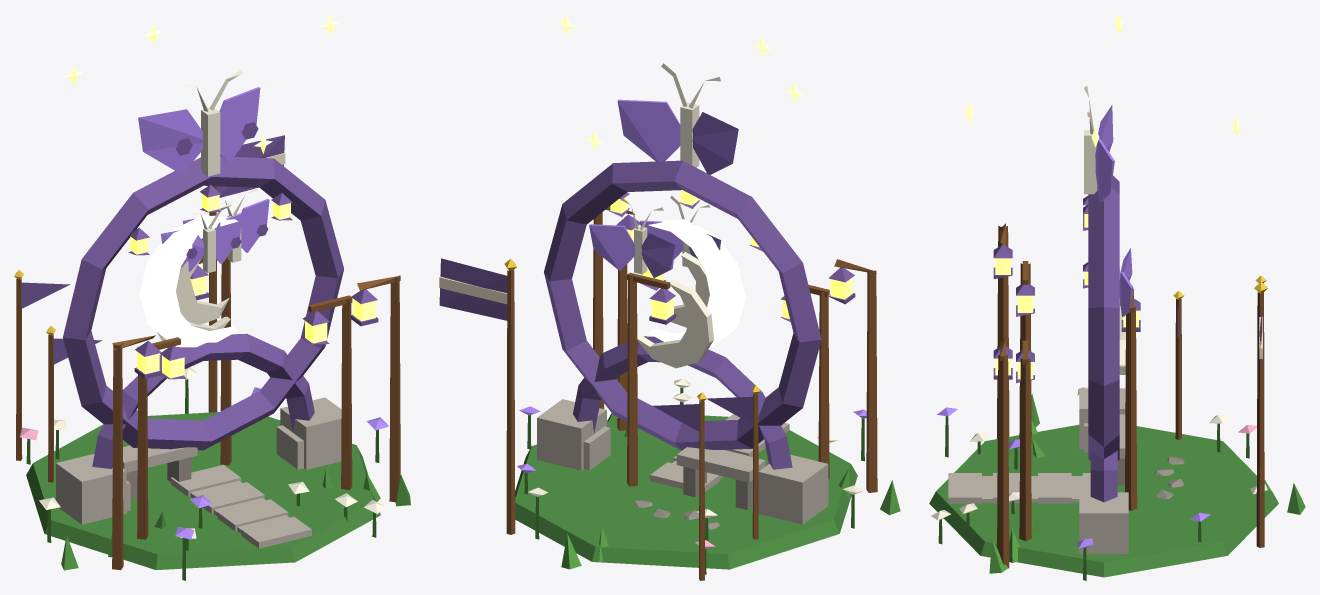
Rendered from moth-moon-garden.glb.
The picture shows the model from 3 angles, left to right: view 1: azimuth 30°, elevation 25°; view 2: azimuth 150°, elevation 25°; view 3: azimuth 270°, elevation 25°; orthographic projection. The views are drawn at different scales.
Visible parts, largest first — view 1: lv3, lv2, lv1; view 2: lv3, lv2, lv1; view 3: lv3, lv2, lv1.
Part boxes in pixels (x1,y1,x2,y2): lv3: [14, 14, 410, 580]; lv2: [46, 203, 380, 557]; lv1: [123, 188, 333, 528]; lv3: [439, 14, 900, 580]; lv2: [517, 195, 849, 561]; lv1: [589, 198, 765, 529]; lv3: [929, 14, 1305, 580]; lv2: [959, 261, 1270, 562]; lv1: [1008, 248, 1184, 534].
Bounding box in the file's own units: 1.73 × 2.14 × 1.68.
